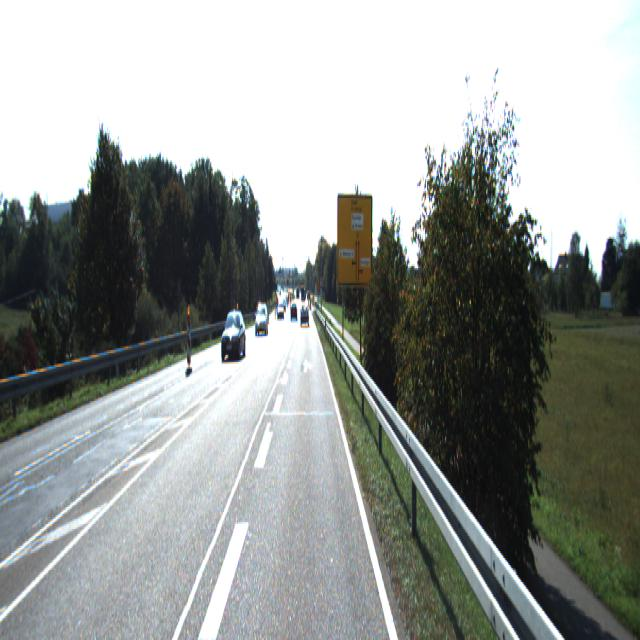Car: (221, 311, 246, 365), (254, 304, 269, 336), (301, 306, 309, 328)
